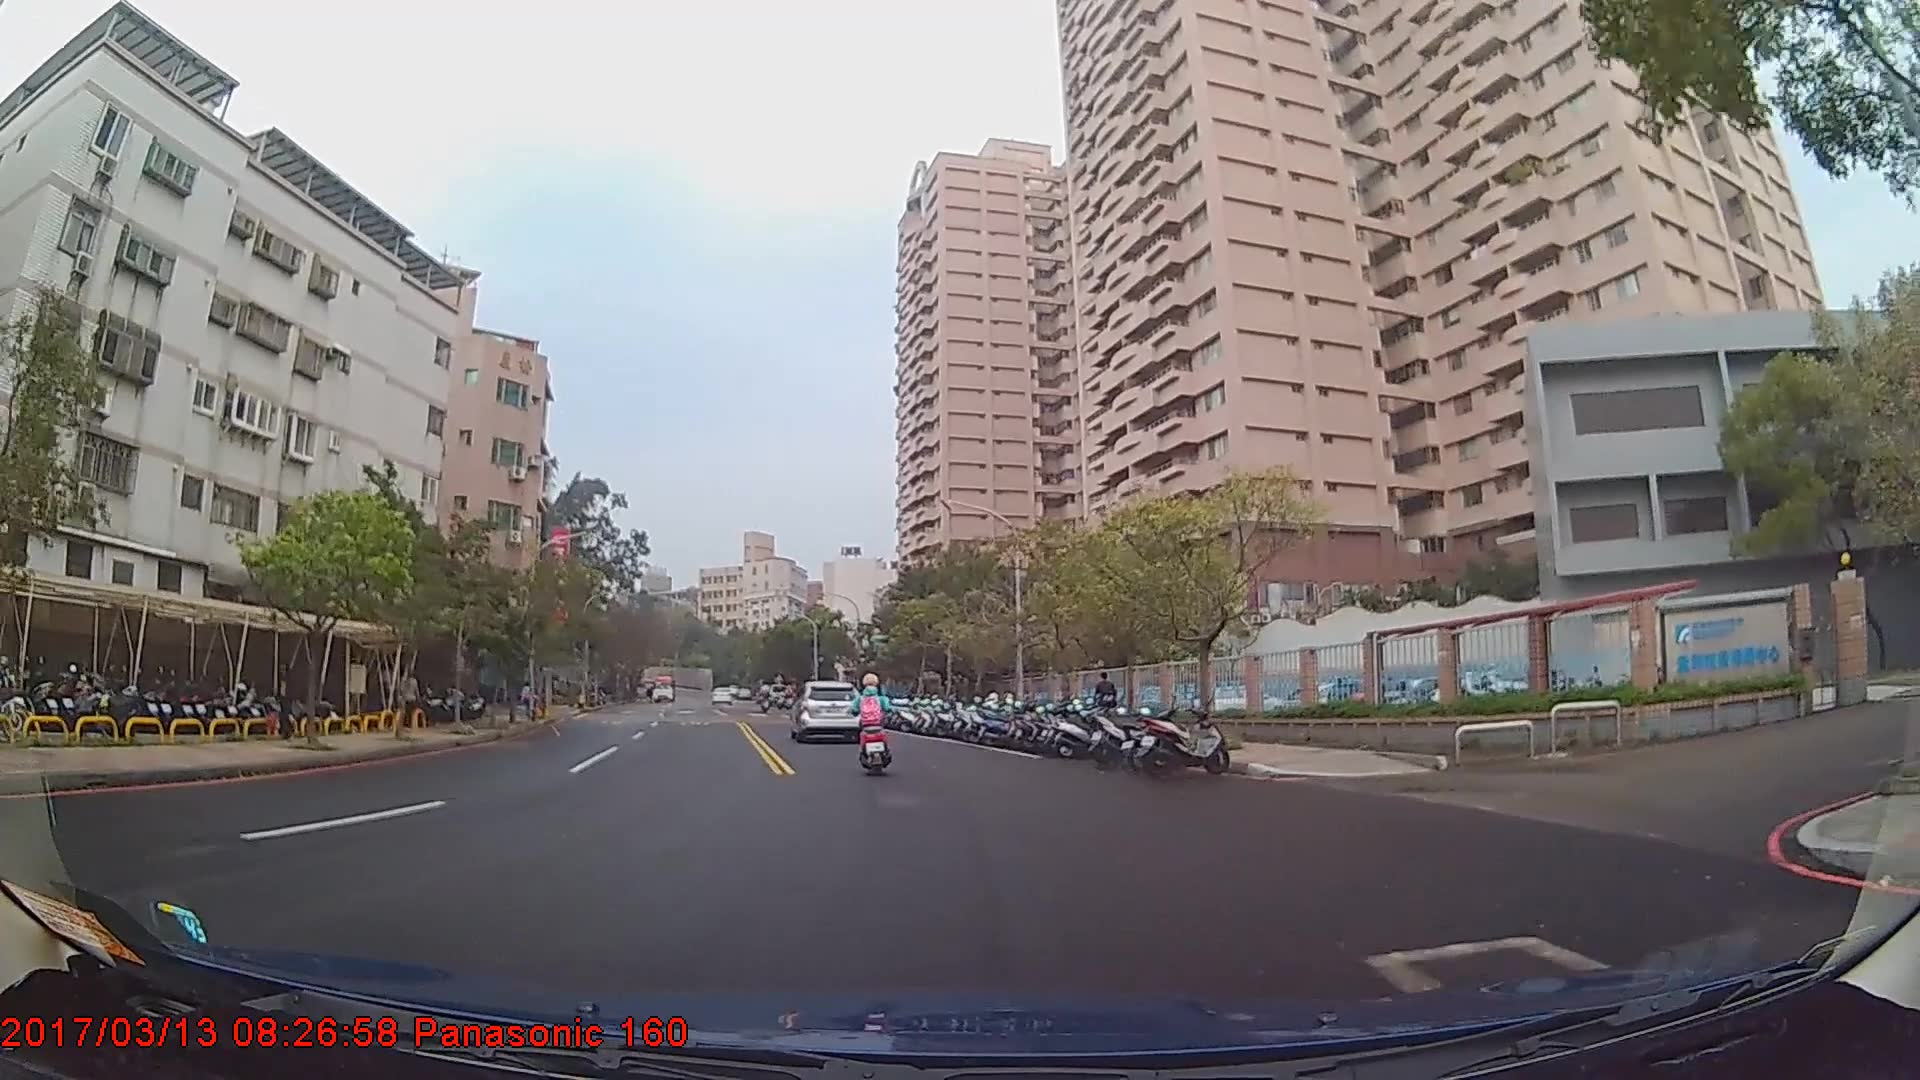pedestrian: (274, 658, 300, 740), (1096, 672, 1119, 735)
rider: (852, 671, 894, 769)
vehicle: (791, 680, 864, 742), (648, 675, 678, 704)
